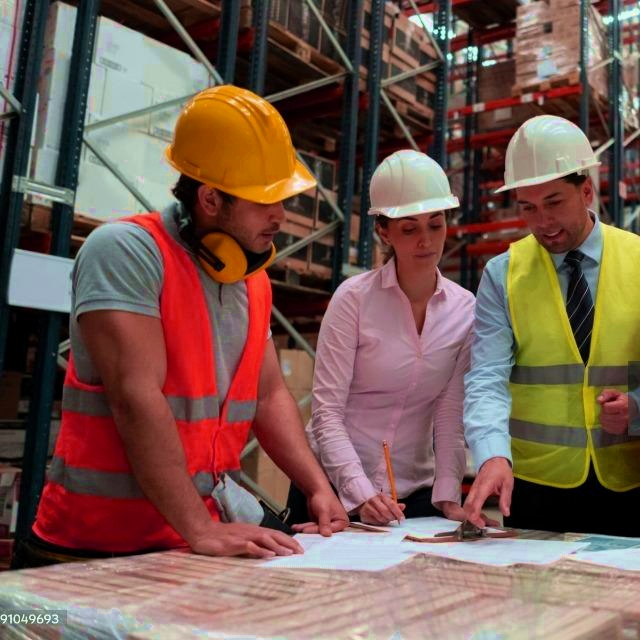Con_Casco: (168, 84, 317, 259), (499, 115, 600, 249), (369, 146, 461, 273)
Con_Chaleco: (62, 232, 272, 547), (495, 230, 640, 489)
Sin_Chaleco: (328, 277, 472, 512)
